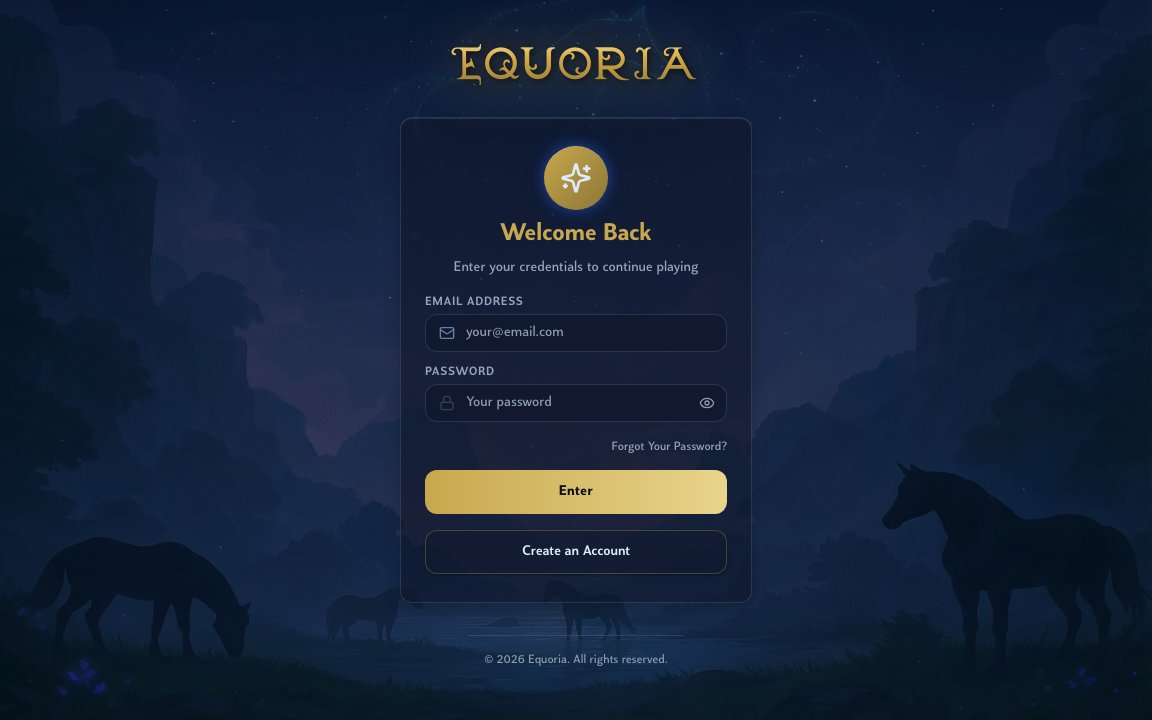
LoginPage › AC-2: Client-Side Validation › shows error for empty password
# Only fill email, leave password empty
In the field labelled "Email Address": (576, 332) [425,314,727,352], type "test@example.com"
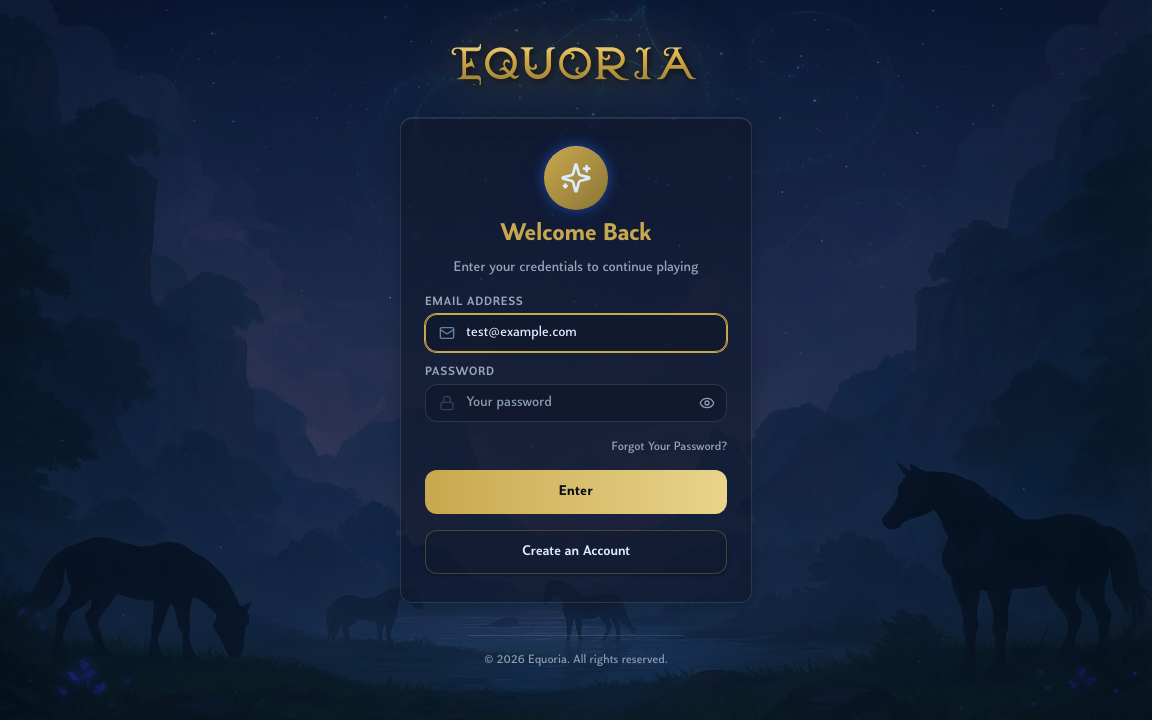
Click the button "Enter": (576, 492) [425,470,727,514]
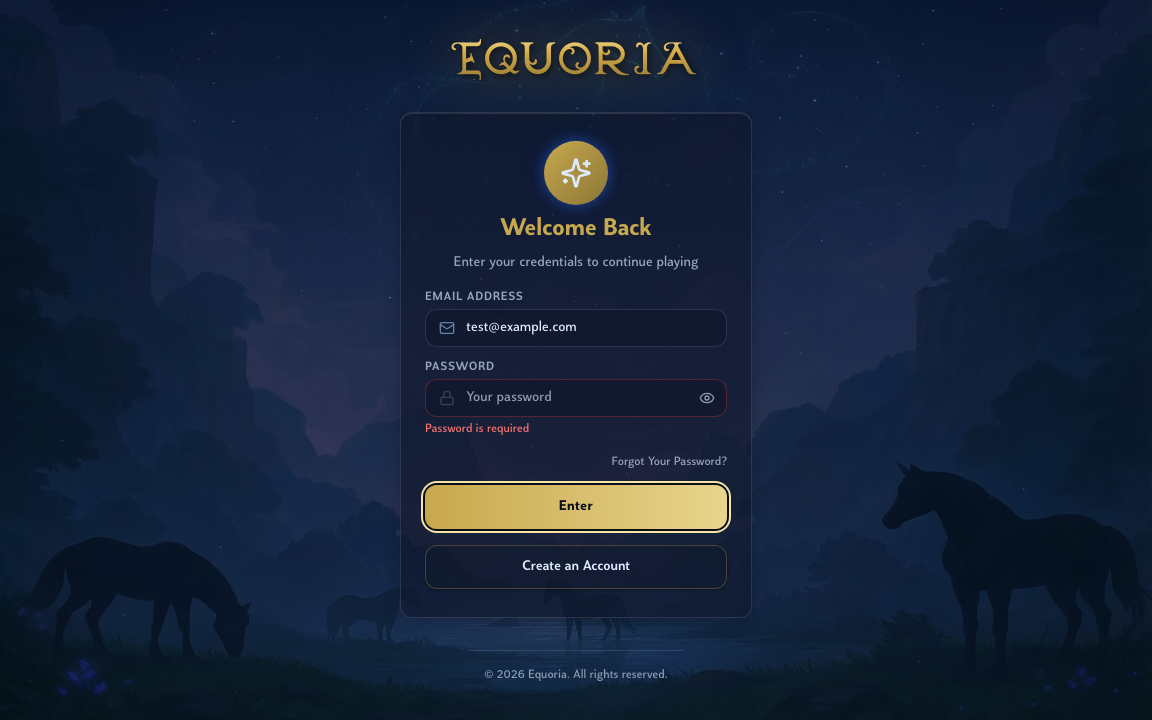
Expected: the text "Password is required" is shown, [425,423,529,435]
